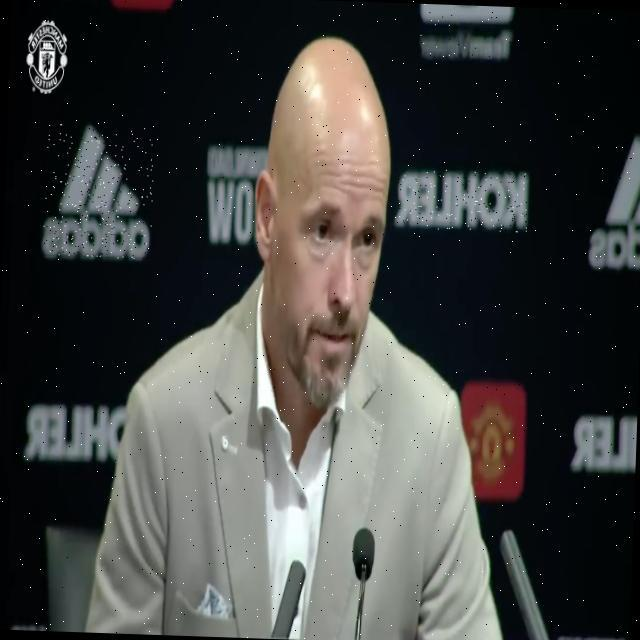Adidas: (42, 124, 155, 260)
Kohler: (396, 168, 529, 233)
TeamViewer: (418, 4, 513, 61)
